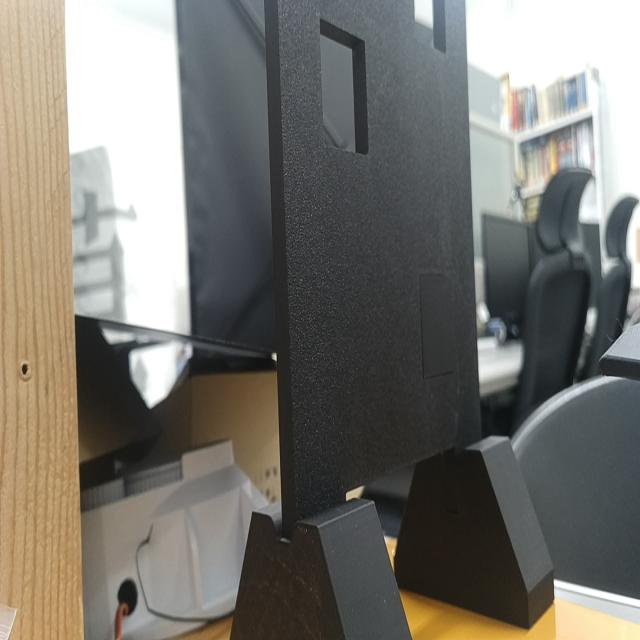Obstacle: (321, 21, 369, 153), (414, 0, 447, 56)
Wall: (277, 0, 482, 511)
